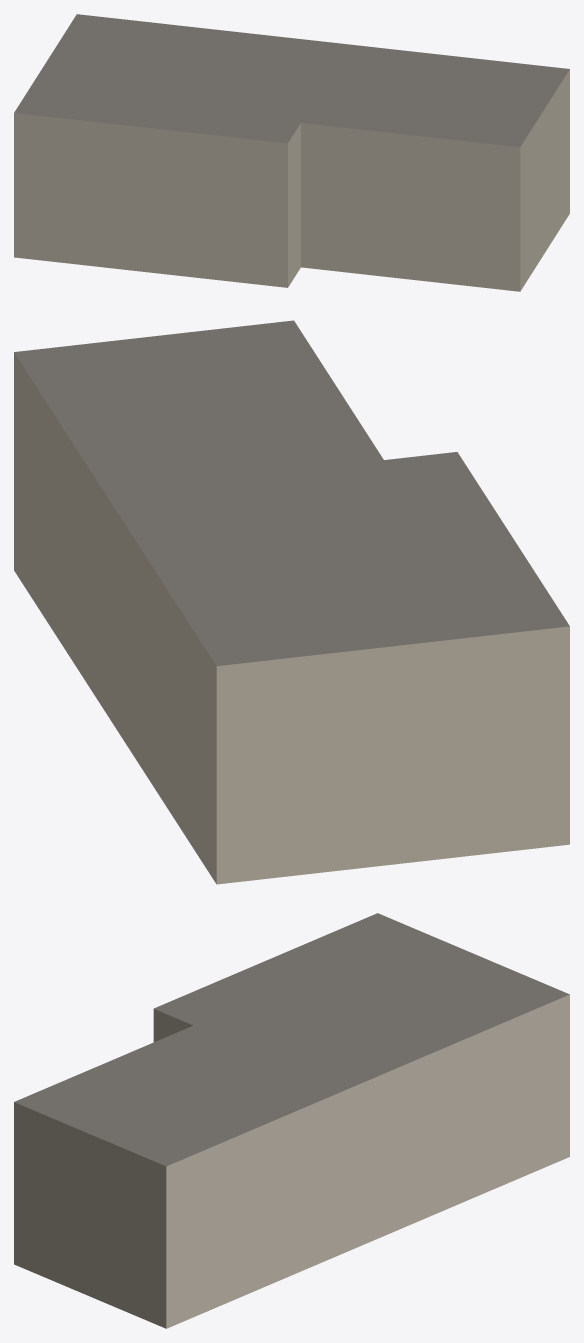
The picture shows the model from 3 angles, top to bottom: view 1: azimuth 30°, elevation 25°; view 2: azimuth 150°, elevation 25°; view 3: azimuth 270°, elevation 25°; orthographic projection. The views are drawn at different scales.
Parts seen in each view (by area): view 1: HP-w1287060497; view 2: HP-w1287060497; view 3: HP-w1287060497.
Part boxes in pixels (x1,y1,x2,y2): HP-w1287060497: (14,14,569,291); HP-w1287060497: (14,320,569,884); HP-w1287060497: (14,913,569,1328).
Bounding box in the file's own units: 60.23 × 18 × 55.85.
